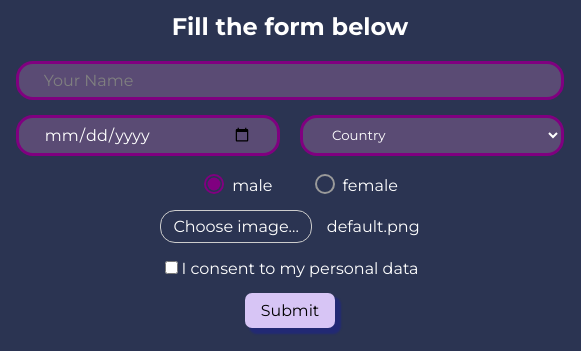
Test: ProductForm › gender input › after click on female, male shouldn't be checked
Click the radio button labelled "female": (356, 185) [314, 174, 398, 195]
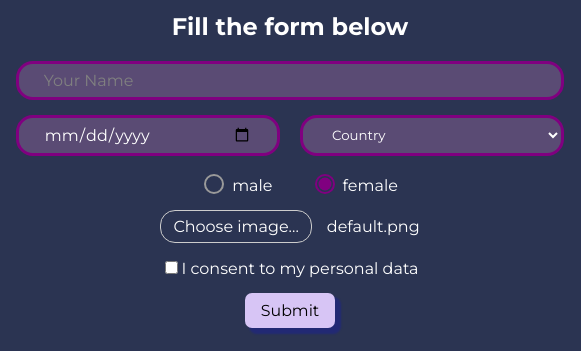
Expected: the radio button labelled "female" is checked, [314, 174, 398, 195]
Expected: the radio button labelled "male" is not checked, [204, 174, 272, 195]
